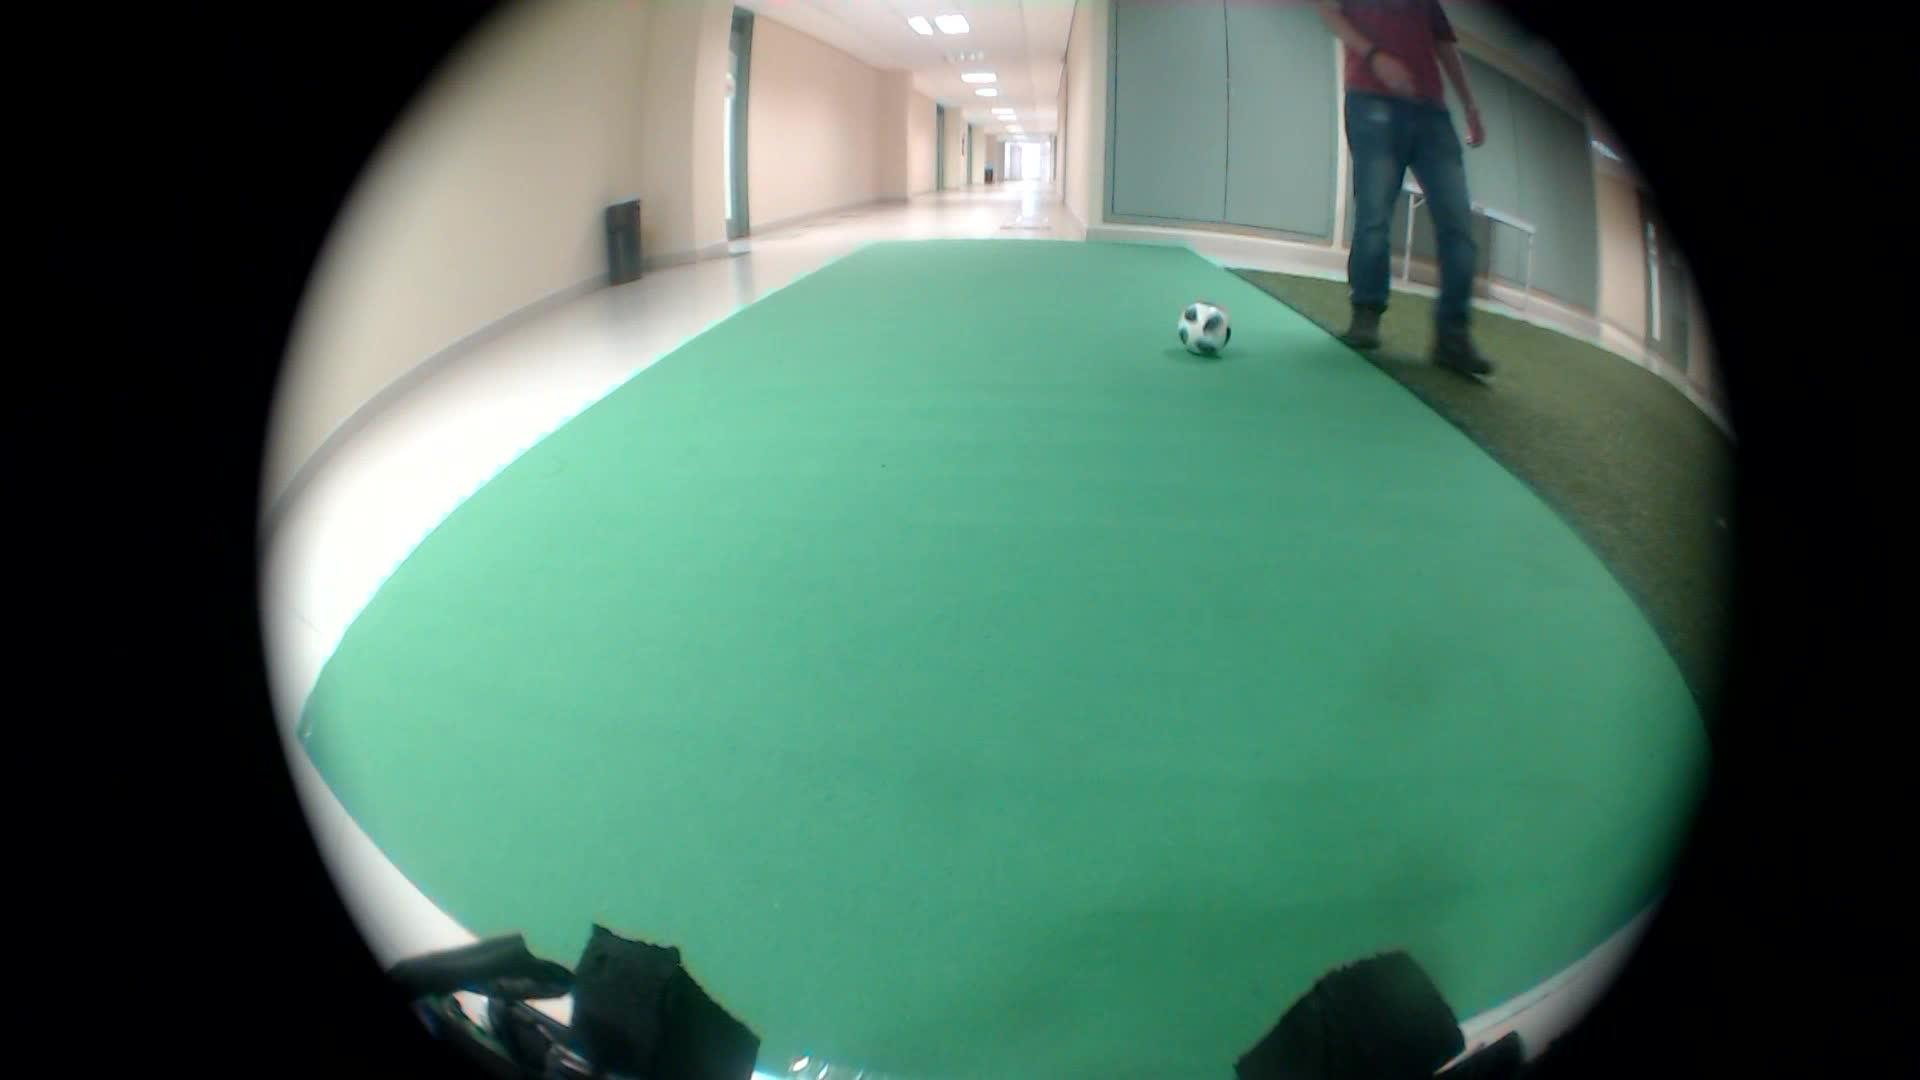ball: (1163, 286, 1244, 363)
